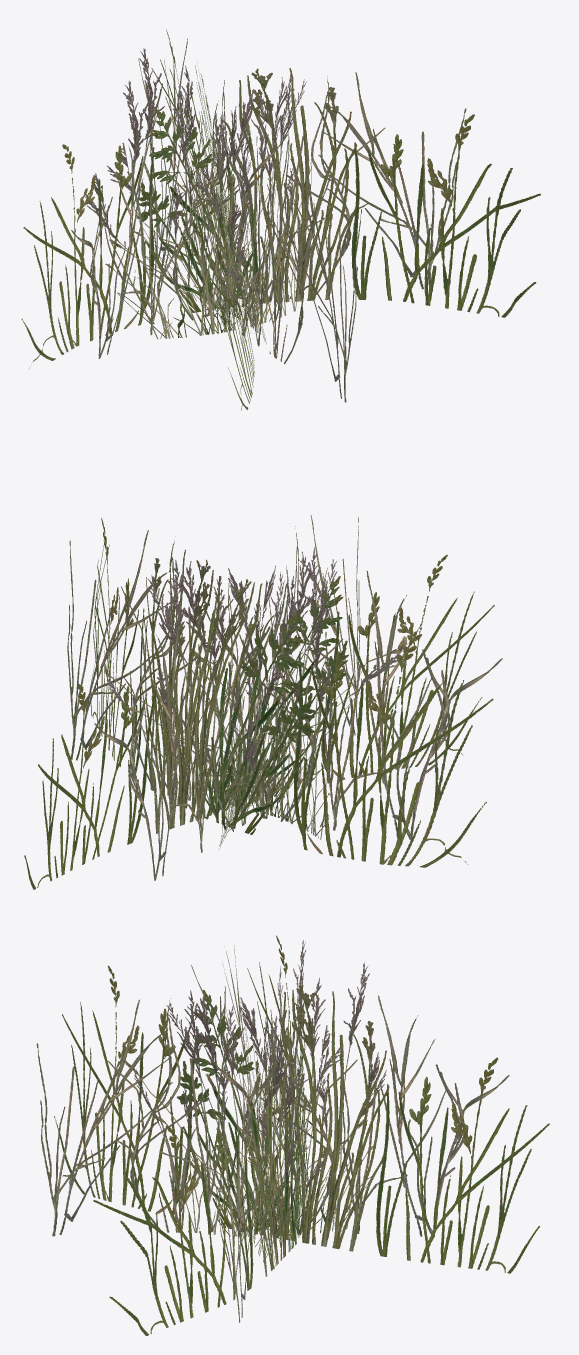
Rendered from field-grasses.glb.
3 renders of one model, top to bottom at view 1: azimuth 30°, elevation 25°; view 2: azimuth 150°, elevation 25°; view 3: azimuth 270°, elevation 25°, orthographic. The views are drawn at different scales.
Visible parts, largest first — view 1: Lawn, Dry, Reeds; view 2: Lawn, Dry, Reeds; view 3: Lawn, Dry, Reeds.
Boxes of the visible parts, x1,y1,x2,y2 form: Lawn: [21, 29, 540, 410]; Dry: [71, 38, 466, 402]; Reeds: [84, 48, 313, 344]; Lawn: [24, 518, 494, 889]; Dry: [67, 515, 502, 880]; Reeds: [104, 547, 407, 850]; Lawn: [54, 935, 549, 1335]; Dry: [36, 945, 509, 1322]; Reeds: [125, 940, 386, 1262].
Size of the model in its own units: 2.03 by 1 by 1.96.
1 material, 1 textured.
